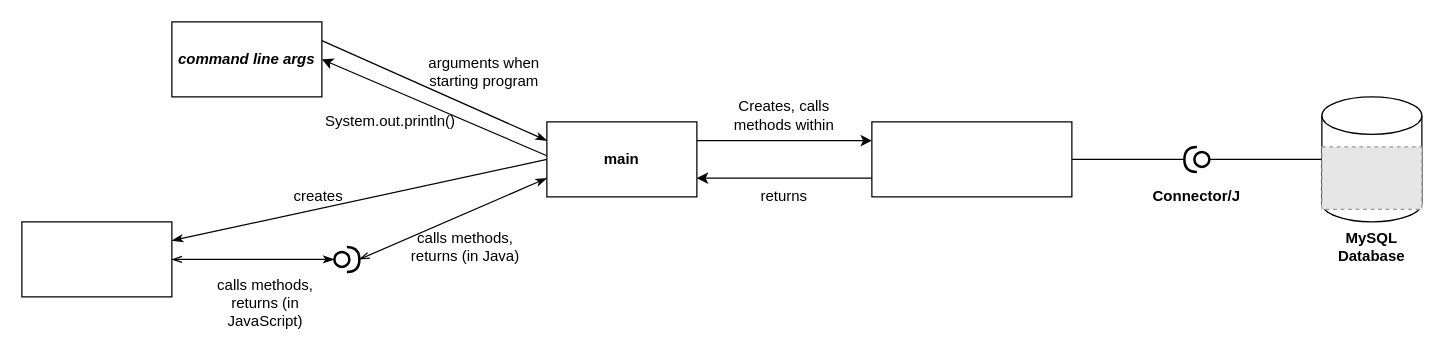
This 1444x351 diagram has some shape labels left out. Grey dashed boxes stand in for pictures. The centre of each missing label's shape, as x and y in pixels:
DatabaseConnector: the point at 971,159
HTML Interface: the point at 96,259
